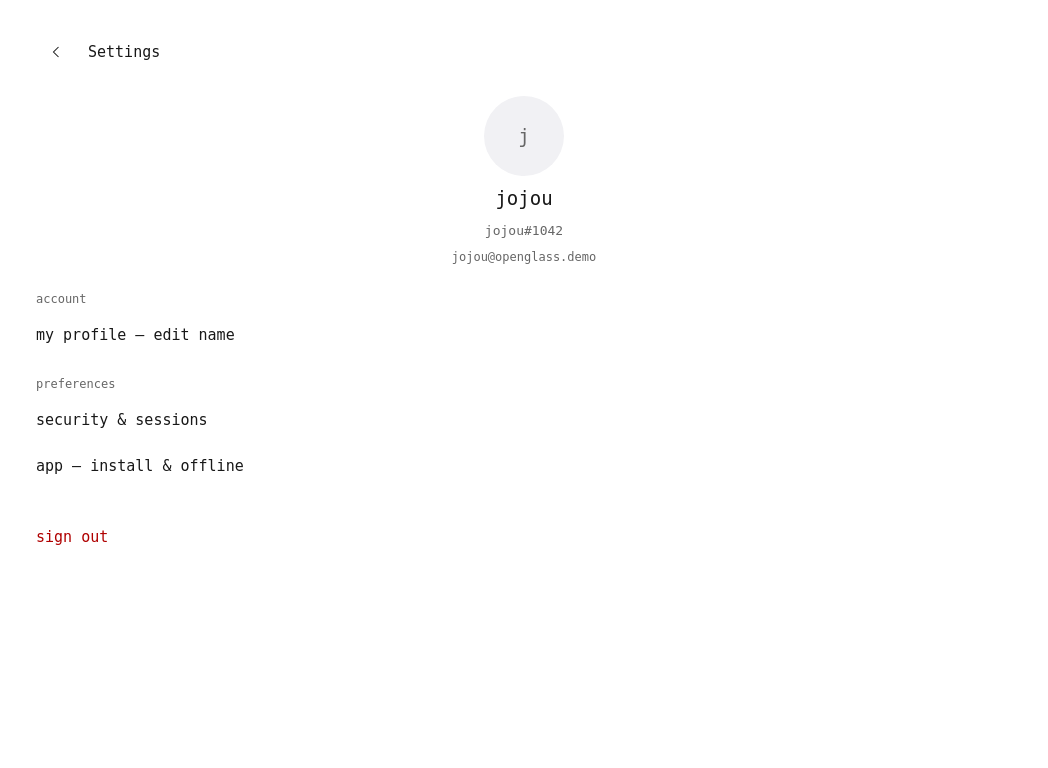
Test: S13 settings › shows the profile card and edits the display name
The width and height of the screenshot is (1048, 768).
Expected: the text with test id "display-name" reads "jojou", [495,187,553,209]
Expected: the text with test id "tag" reads "jojou#1042", [485,222,563,238]
Click the button with test id "edit-profile": (135, 335) [36,312,1012,358]
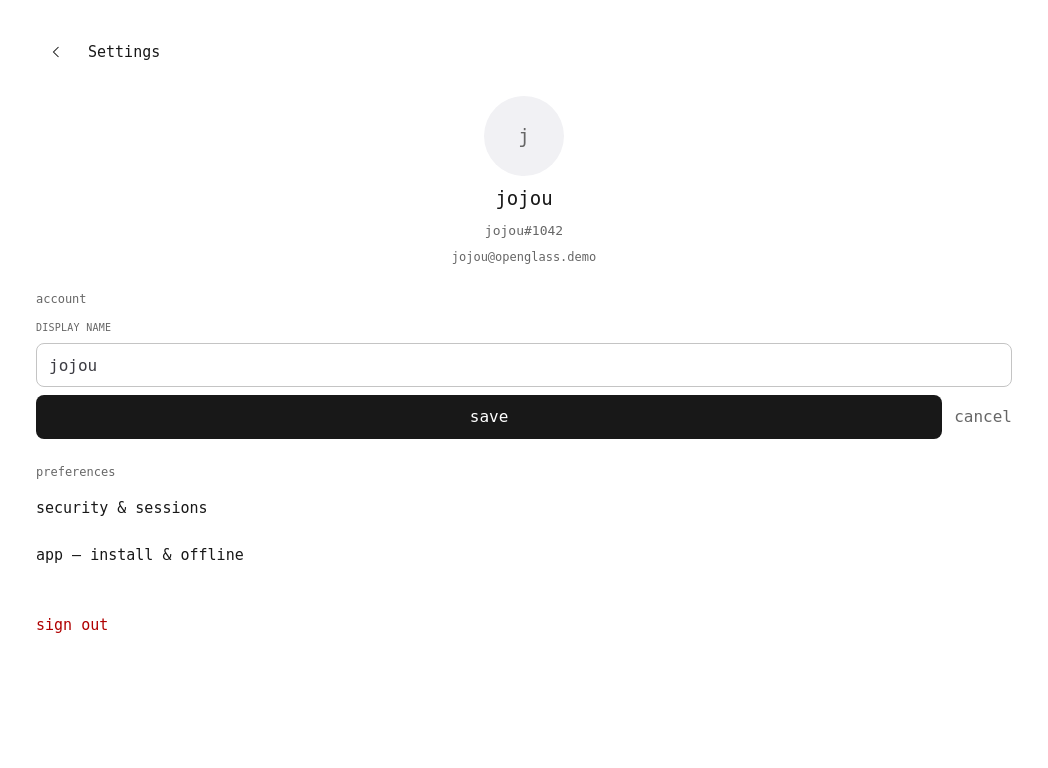
Replace the text in the field with placeholder "display name" with "jojou renamed": (524, 365) [36,343,1012,387]
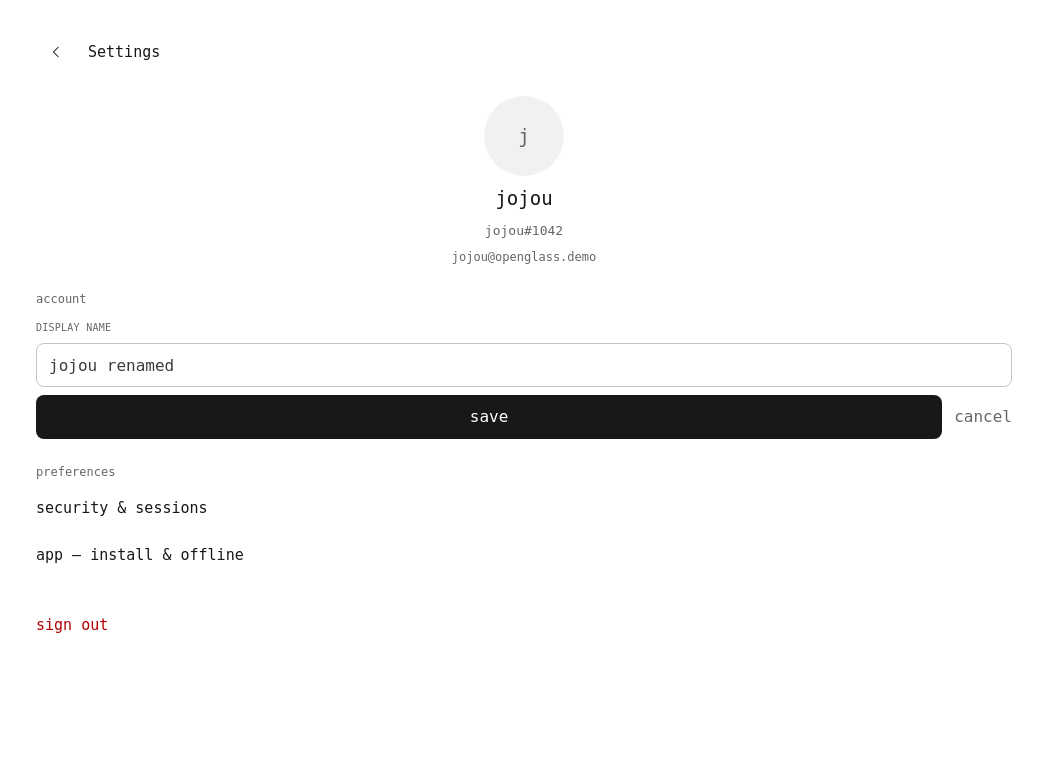
Click the button with test id "name-save": (489, 417) [36,395,942,439]
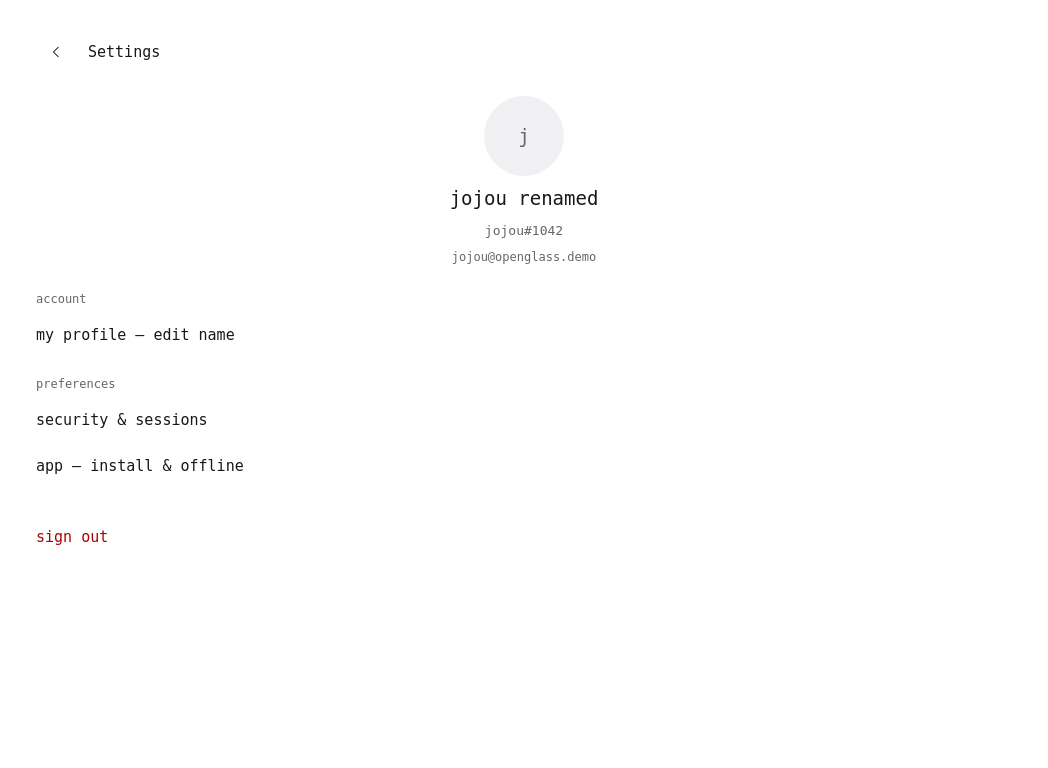
Expected: the text with test id "display-name" reads "jojou renamed", [450,187,598,209]
